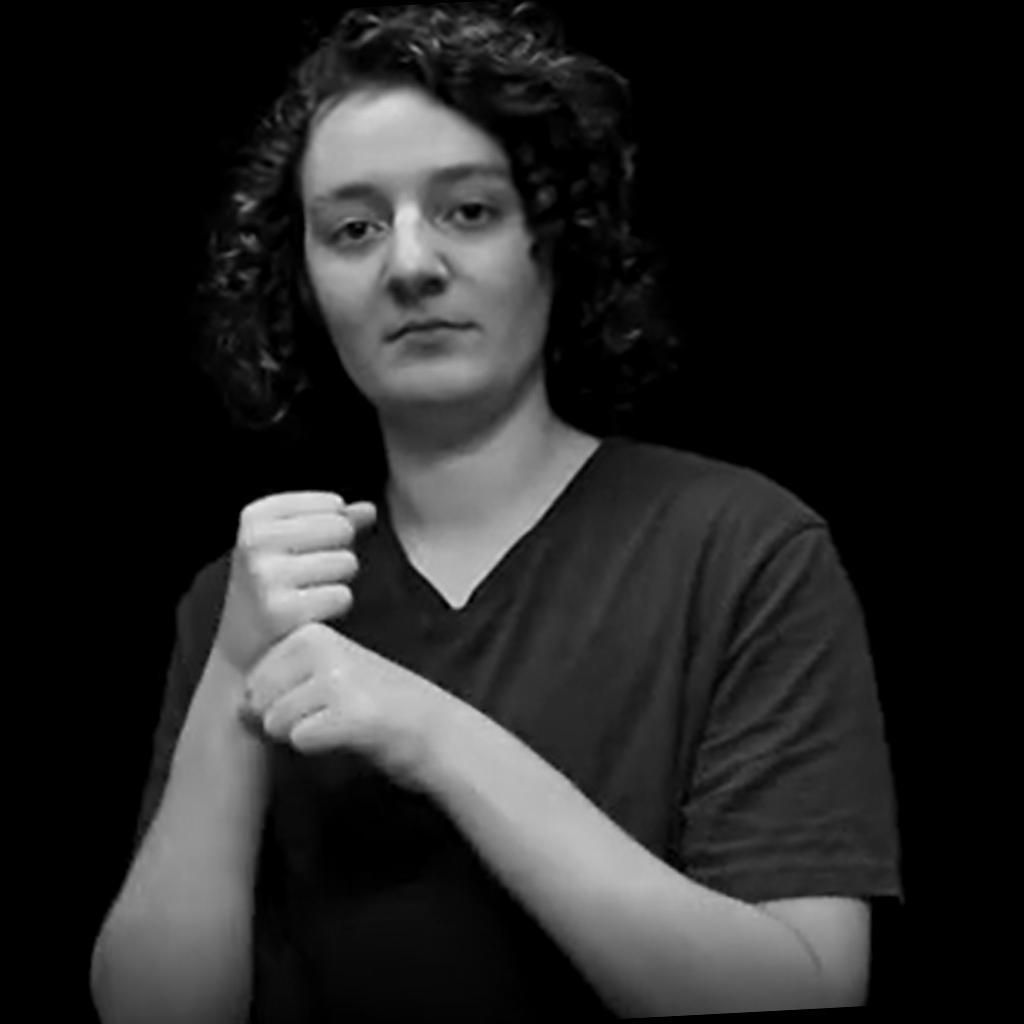get: (210, 486, 392, 764)
